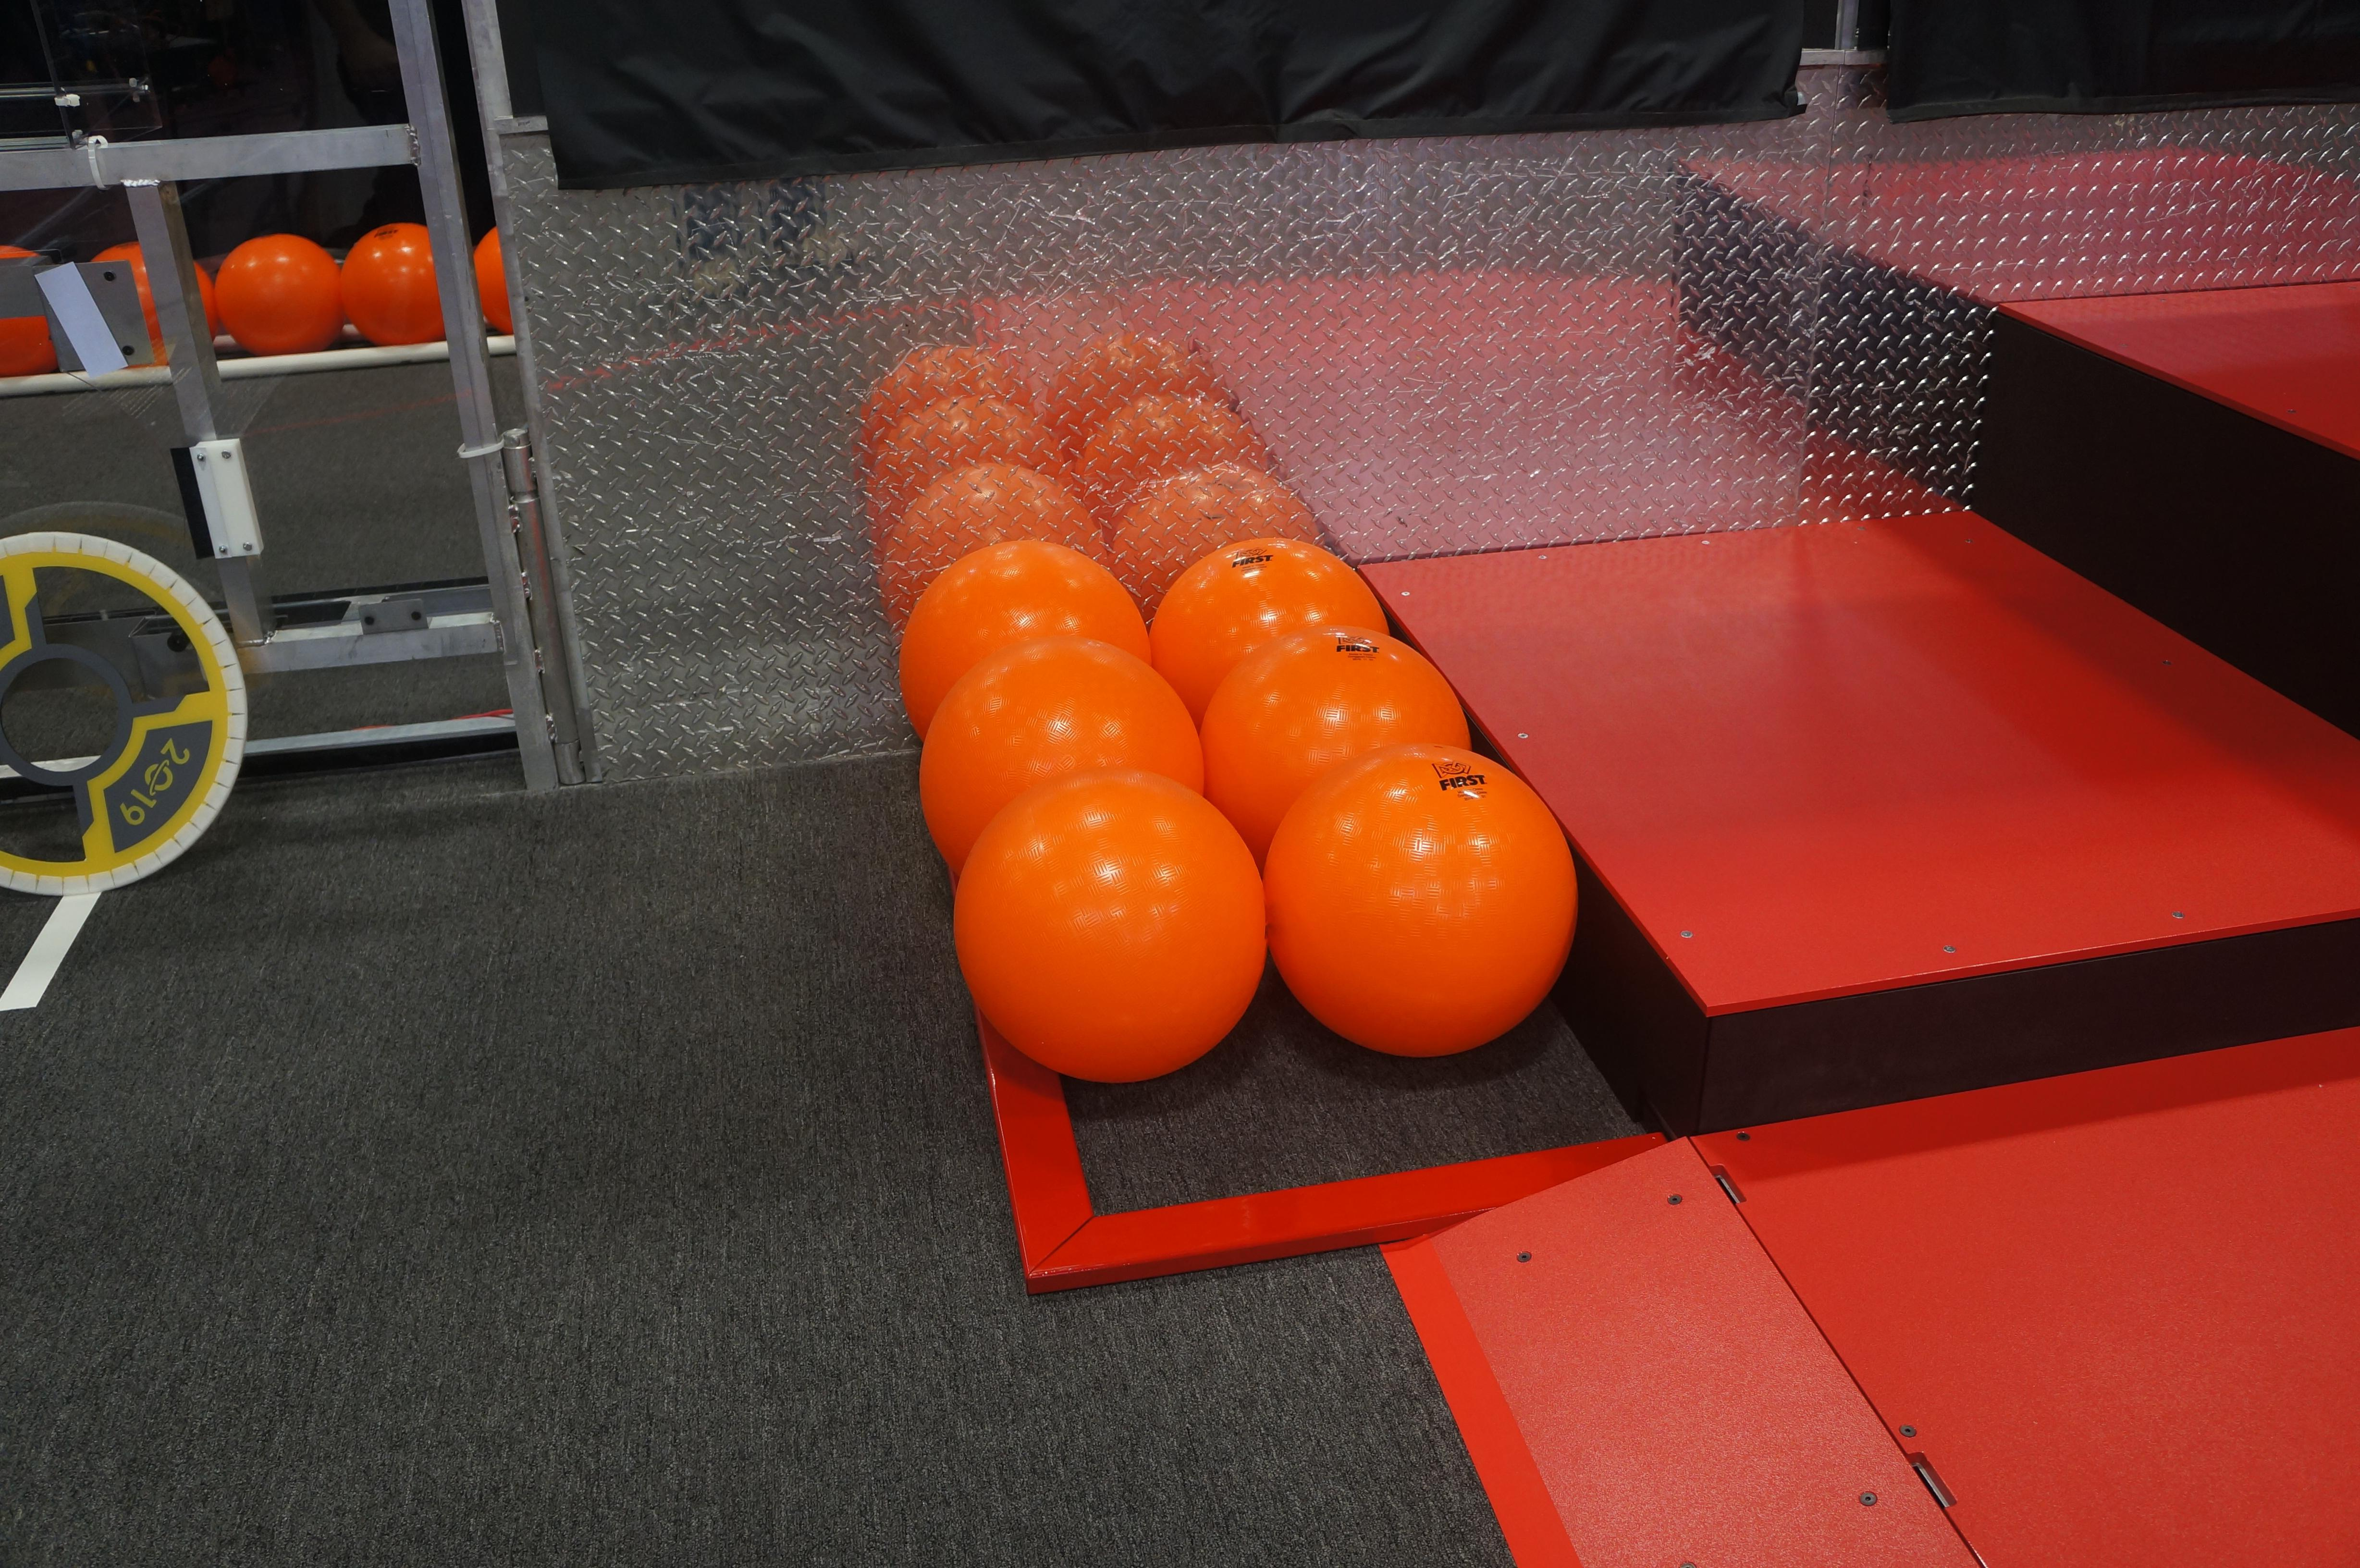Ball: (1261, 744, 1578, 1064), (950, 777, 1265, 1085), (918, 633, 1198, 880), (1202, 632, 1470, 879), (896, 532, 1149, 747), (1155, 539, 1391, 735), (80, 226, 212, 369), (215, 231, 345, 355), (346, 217, 455, 346), (0, 224, 72, 371), (465, 215, 532, 336)
Hatch: (0, 525, 247, 908)
